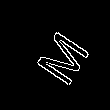M_NW: (21, 17, 87, 83)
